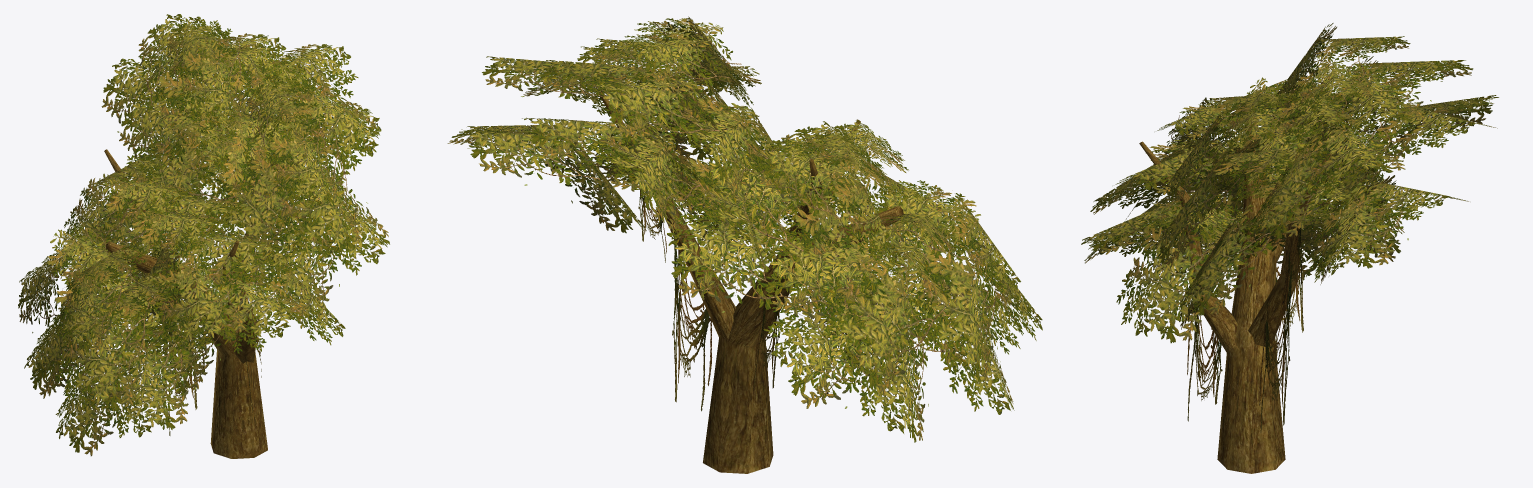
The model's file is obj_macoprtr12.glb.
3 views of the same model, side by side, from view 1: azimuth 30°, elevation 25°; view 2: azimuth 150°, elevation 25°; view 3: azimuth 270°, elevation 25° (orthographic). The views are drawn at different scales.
Visible parts, largest first — view 1: part_0; view 2: part_0; view 3: part_0.
Boxes of the visible parts, x1=… form: part_0: x1=18, y1=14, x2=389, y2=458; part_0: x1=447, y1=16, x2=1042, y2=473; part_0: x1=1081, y1=23, x2=1498, y2=473.
Bounding box in the file's own units: 20.51 × 18.5 × 17.15.
3 materials, 3 textured.
